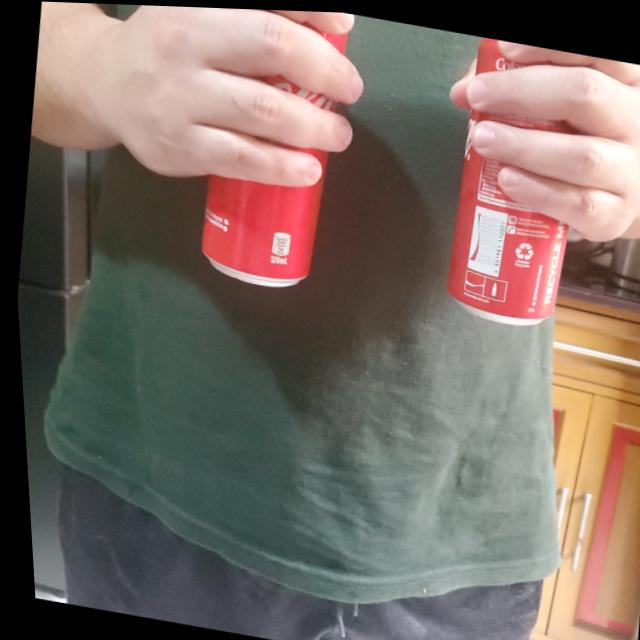coke: (181, 5, 360, 291), (426, 31, 594, 331)
